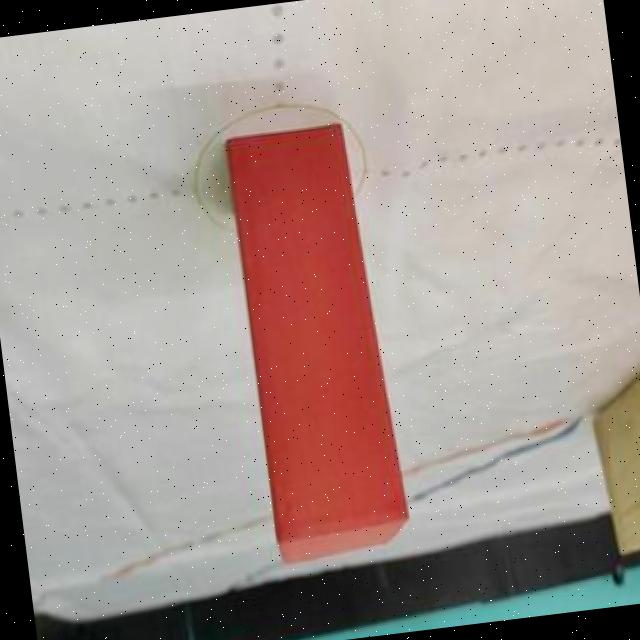redbox: (220, 116, 413, 566)
